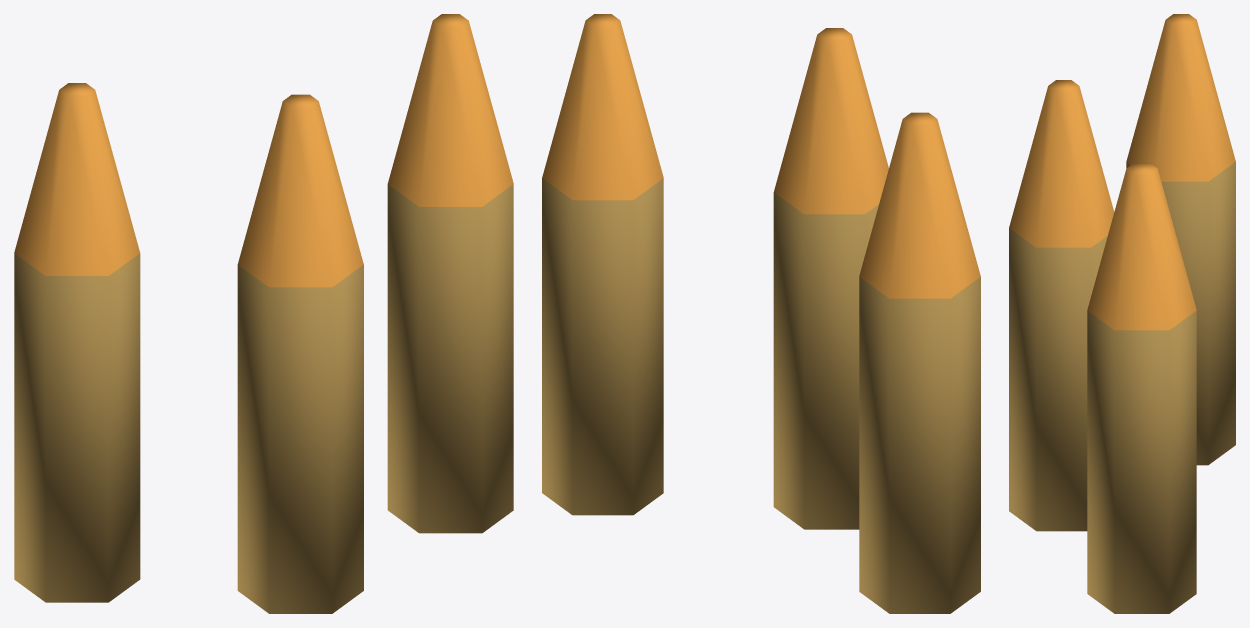
File: meteor_shot.glb
The picture shows the model from 3 angles, left to right: view 1: azimuth 30°, elevation 25°; view 2: azimuth 150°, elevation 25°; view 3: azimuth 270°, elevation 25°; orthographic projection. The views are drawn at different scales.
Visible parts, largest first — view 1: meteor_shot_v0; view 2: meteor_shot_v0; view 3: meteor_shot_v0.
Boxes of the visible parts, x1,y1,x2,y2 form: meteor_shot_v0: (14, 14, 513, 613); meteor_shot_v0: (542, 14, 980, 613); meteor_shot_v0: (1009, 14, 1235, 613).
Size of the model in its own units: 0.1142 by 0.12 by 0.058.
